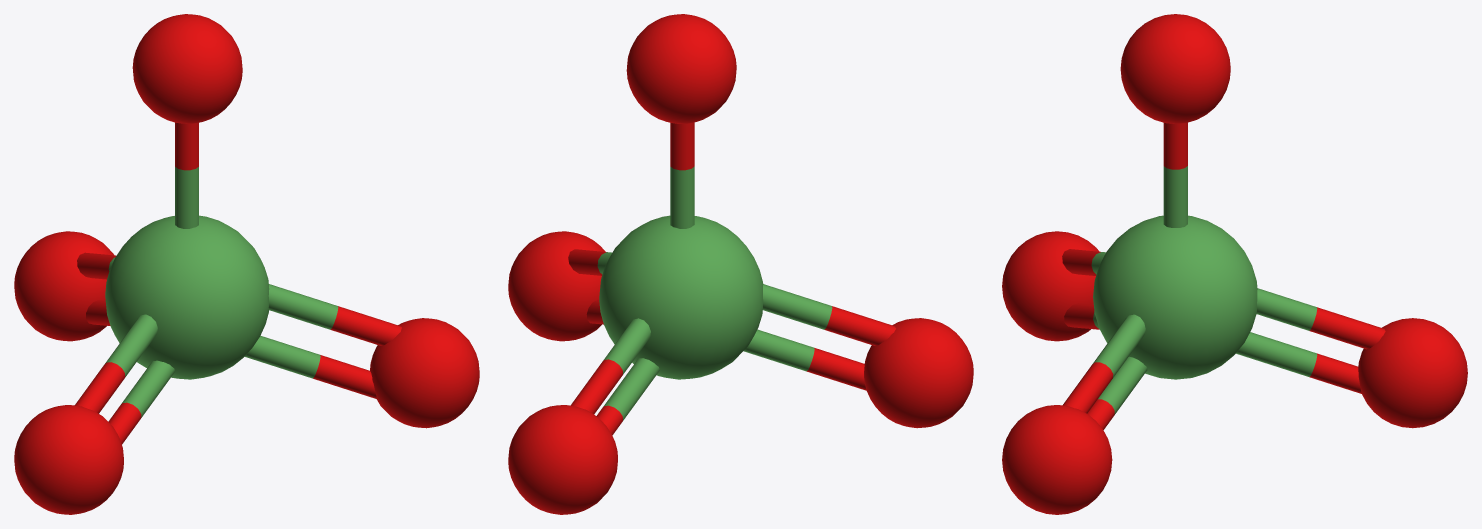
3 renders of one model, left to right at view 1: azimuth 30°, elevation 25°; view 2: azimuth 150°, elevation 25°; view 3: azimuth 270°, elevation 25°, orthographic.
Parts seen in each view (by area): view 1: 对象010; view 2: 对象010; view 3: 对象010.
Part boxes in pixels (bbox=[...]): 对象010: bbox=[14, 14, 479, 514]; 对象010: bbox=[508, 14, 973, 514]; 对象010: bbox=[1002, 14, 1467, 514].
Size of the model in its own units: 62.38 by 53.38 by 55.79.
